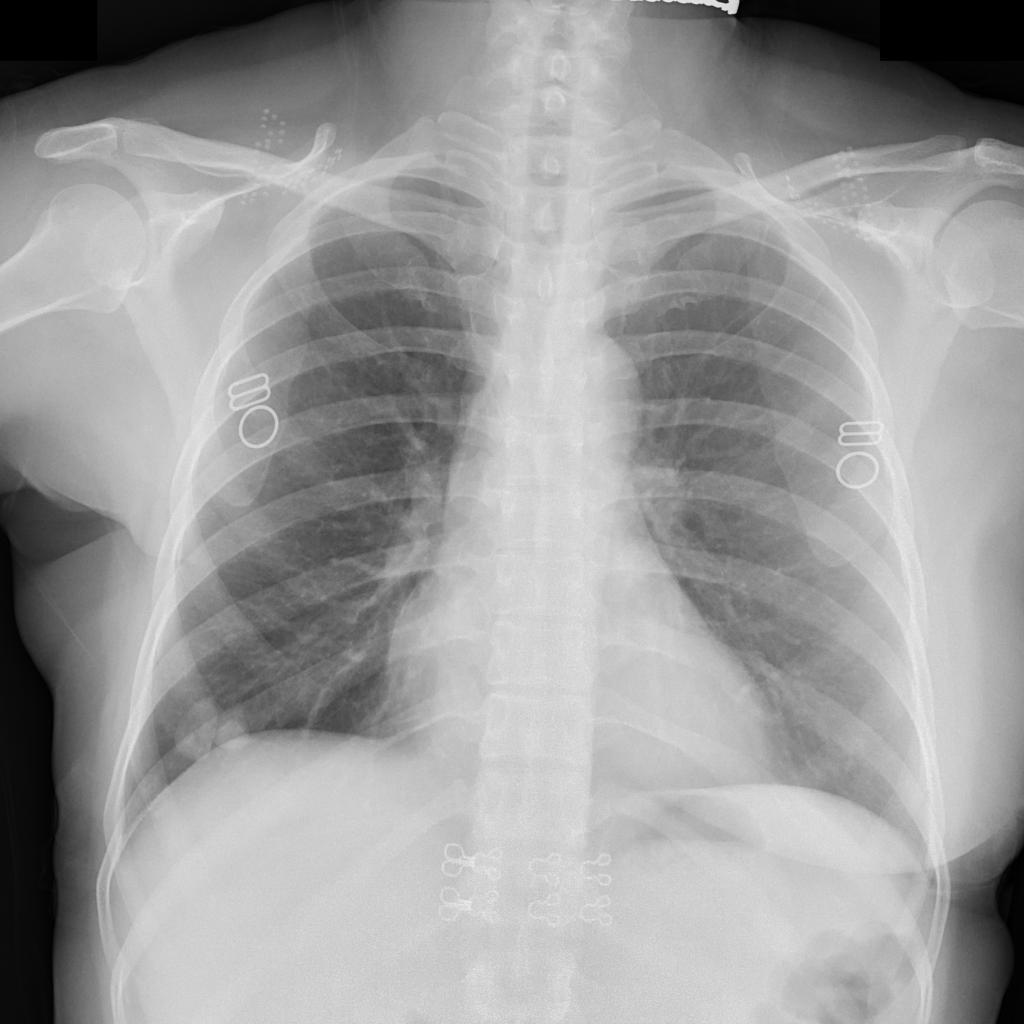Nodule: (177, 696, 219, 758), (219, 722, 250, 754)
